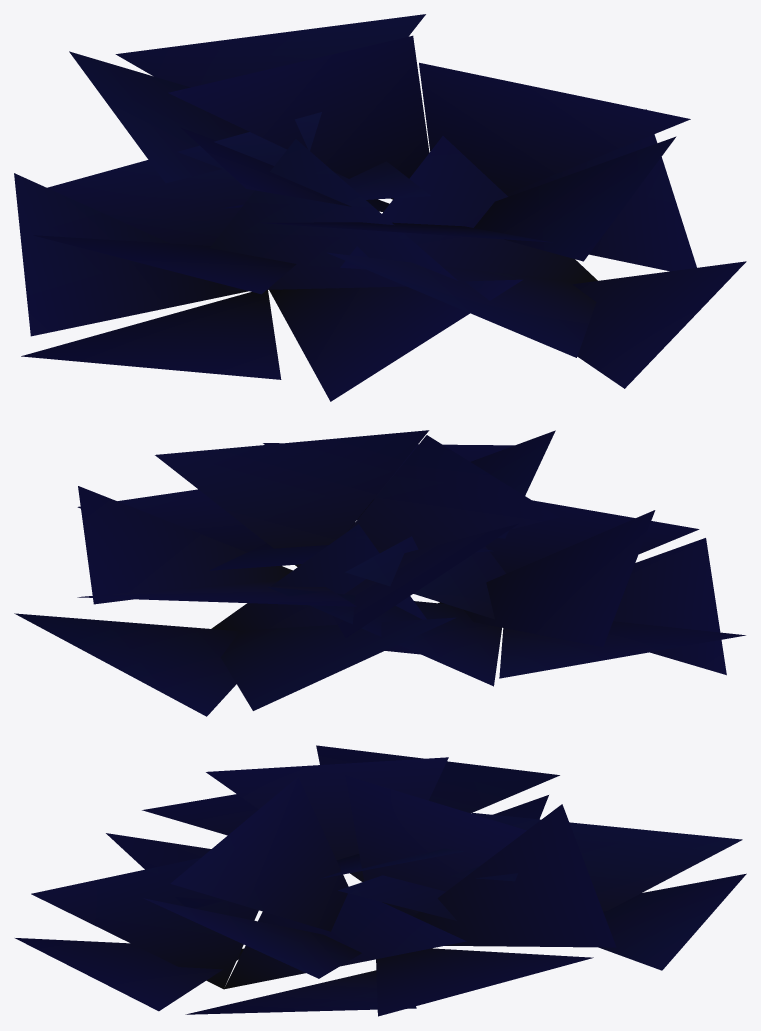
File: TSI_Water_Plant_03A.fbx
The picture shows the model from 3 angles, top to bottom: view 1: azimuth 30°, elevation 25°; view 2: azimuth 150°, elevation 25°; view 3: azimuth 270°, elevation 25°; orthographic projection. The views are drawn at different scales.
Visible parts, largest first — view 1: TSI_Water_Plant_03A_LOD0; view 2: TSI_Water_Plant_03A_LOD0; view 3: TSI_Water_Plant_03A_LOD0.
Part boxes in pixels (bbox=[...]): TSI_Water_Plant_03A_LOD0: bbox=[14, 14, 746, 401]; TSI_Water_Plant_03A_LOD0: bbox=[14, 430, 745, 716]; TSI_Water_Plant_03A_LOD0: bbox=[15, 745, 746, 1016].
Bounding box in the file's own units: 240 × 37.26 × 258.
